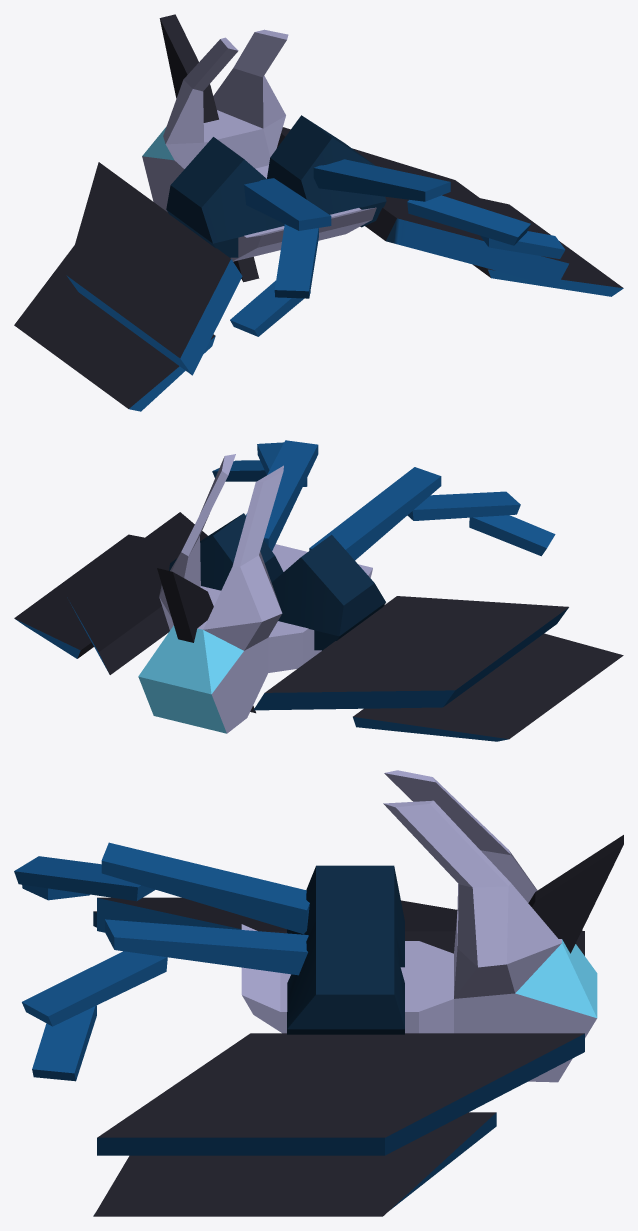
File: ship_03.FBX
3 renders of one model, top to bottom at view 1: azimuth 30°, elevation 25°; view 2: azimuth 150°, elevation 25°; view 3: azimuth 270°, elevation 25°, orthographic. The views are drawn at different scales.
Visible parts, largest first — view 1: Ship_03; view 2: Ship_03; view 3: Ship_03.
Part boxes in pixels (x1=…): Ship_03: x1=14, y1=14, x2=623, y2=411; Ship_03: x1=14, y1=440, x2=623, y2=741; Ship_03: x1=14, y1=770, x2=623, y2=1216.
Size of the model in its own units: 316 by 149 by 267.
